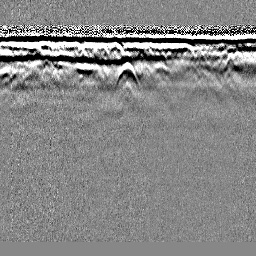cavity: (115, 61, 141, 89)
